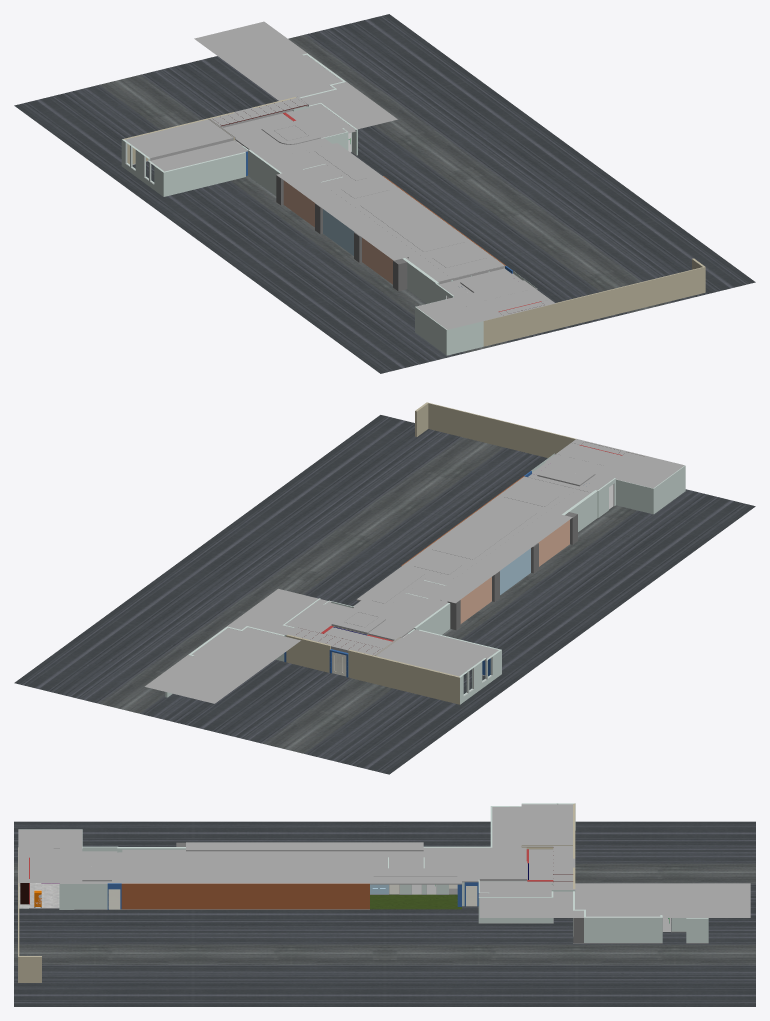
Rendered from ODC_part1_v4.fbx.
The picture shows the model from 3 angles, top to bottom: view 1: azimuth 30°, elevation 25°; view 2: azimuth 150°, elevation 25°; view 3: azimuth 270°, elevation 25°; orthographic projection.
Visible parts, largest first — view 1: floor1, front_ceiling_2, wall_part_51, front_ceiling_8, front_ceiling_5, front_ceiling_1, front_ceiling_4, croom_1, front_ceiling_3, wall_part_50, front_ceiling_12, front_ceiling_11 (+10 smaller); view 2: floor1, front_ceiling_2, wall_part_51, front_ceiling_8, front_ceiling_4, front_ceiling_1, croom_4, front_ceiling_5, front_ceiling_3, wall_part_50, front_ceiling_12, front_ceiling_11 (+12 smaller); view 3: floor1, front_ceiling_2, m_cabin_119, front_ceiling_8, front_ceiling_4, front_ceiling_1, front_ceiling_5, front_ceiling_3, front_ceiling_12, wall_part_81, front_ceiling_11, front_ceiling_6 (+10 smaller).
Part boxes in pixels (<box>): floor1: <box>14,14,755,373</box>; front_ceiling_2: <box>194,21,397,132</box>; wall_part_51: <box>483,258,705,346</box>; front_ceiling_8: <box>347,189,473,255</box>; front_ceiling_5: <box>125,119,247,171</box>; front_ceiling_1: <box>416,280,555,329</box>; front_ceiling_4: <box>235,130,451,281</box>; croom_1: <box>121,139,245,196</box>; front_ceiling_3: <box>209,96,356,138</box>; wall_part_50: <box>415,299,483,355</box>; front_ceiling_12: <box>276,171,408,260</box>; front_ceiling_11: <box>422,243,504,279</box>; floor1: <box>14,415,755,774</box>; front_ceiling_2: <box>144,588,331,703</box>; wall_part_51: <box>415,402,576,457</box>; front_ceiling_8: <box>420,499,545,565</box>; front_ceiling_4: <box>352,489,590,640</box>; front_ceiling_1: <box>545,439,684,488</box>; croom_4: <box>348,649,459,704</box>; front_ceiling_5: <box>376,629,498,676</box>; front_ceiling_3: <box>285,603,391,655</box>; wall_part_50: <box>616,465,685,514</box>; front_ceiling_12: <box>440,514,572,603</box>; front_ceiling_11: <box>493,476,576,511</box>; floor1: <box>14,821,755,1006</box>; front_ceiling_2: <box>479,883,750,917</box>; m_cabin_119: <box>121,883,369,909</box>; front_ceiling_8: <box>185,857,334,883</box>; front_ceiling_4: <box>122,847,526,882</box>; front_ceiling_1: <box>18,829,82,882</box>; front_ceiling_5: <box>492,804,572,847</box>; front_ceiling_3: <box>478,846,575,896</box>; front_ceiling_12: <box>186,842,423,851</box>; wall_part_81: <box>573,891,662,942</box>; front_ceiling_11: <box>122,857,185,883</box>; front_ceiling_6: <box>369,868,461,884</box>.
Size of the model in its own units: 4427 by 310 by 7489.
